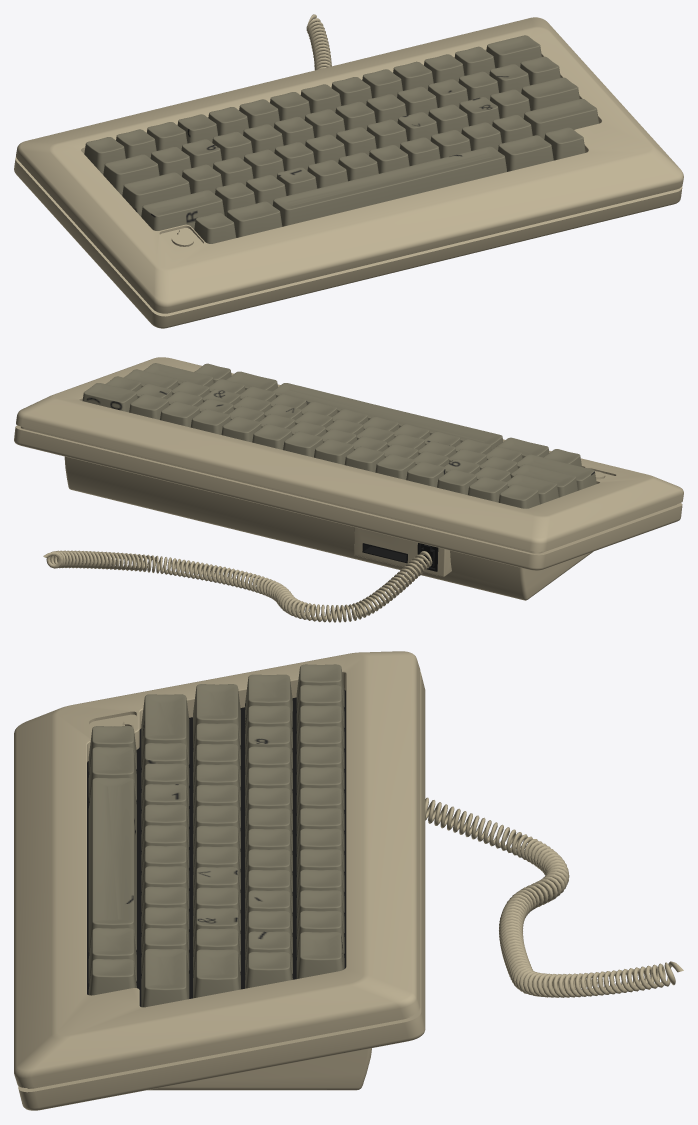
The model's file is keyboardmouse.glb.
3 views of the same model, one above another, from view 1: azimuth 30°, elevation 25°; view 2: azimuth 150°, elevation 25°; view 3: azimuth 270°, elevation 25° (orthographic). The views are drawn at different scales.
Parts seen in each view (by area): view 1: Keyboard, Space, Shift.001, Shift, CapLock, Enter, Start, Tab, Return, Backspace, Option.001, Option (+48 smaller); view 2: Keyboard, Keyboardchord, Space, Backspace, Shift.001, CapLock, Shift, ~, Tab, 5, 9, e (+14 smaller); view 3: Keyboard, Keyboardchord, Space, Shift, Shift.001, Return, Backspace, CapLock, Enter, Start, Tab, Option (+48 smaller).
Part boxes in pixels (x1,y1,x2,y2): Keyboard: (14,17,683,328); Space: (272,146,507,226); Shift.001: (141,190,224,230); Shift: (523,98,599,139); CapLock: (122,172,190,216); Enter: (498,135,553,171); Start: (226,201,282,237); Tab: (103,154,159,195); Return: (521,77,579,110); Backspace: (486,35,541,68); Option.001: (194,213,236,243); Option: (544,127,585,160); Keyboard: (14,357,683,600); Keyboardchord: (43,550,432,622); Space: (273,383,503,449); Backspace: (82,383,137,412); Shift.001: (517,454,596,490); CapLock: (510,464,577,497); Shift: (143,363,213,386); ~: (498,484,539,508); Tab: (506,474,558,504); 5: (344,446,384,472); 9: (221,416,261,442); e: (190,409,230,434); Keyboard: (14,651,425,1110); Keyboardchord: (425,797,683,997); Space: (88,777,136,952); Shift: (141,949,189,1007); Shift.001: (141,694,189,768); Return: (193,949,240,998); Backspace: (296,932,344,978); CapLock: (193,684,240,748); Enter: (88,928,136,983); Start: (88,747,136,802); Tab: (245,674,292,730); Option: (88,959,136,995).
Bounding box in the file's own units: 12.4 × 2.14 × 9.97.
Materials: 4 (4 with a texture image).
